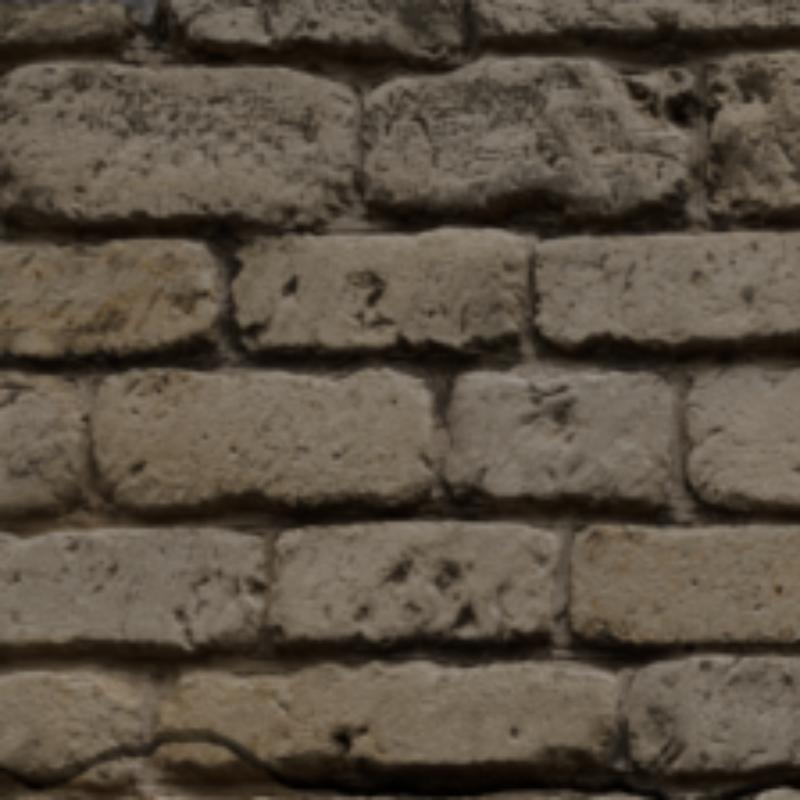pothole: (0, 732, 682, 796), (711, 775, 796, 796)
